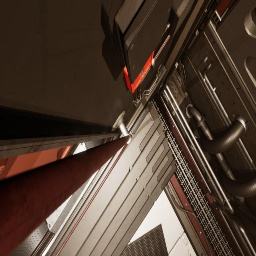FireAlarm ,: (124, 50, 154, 93)
